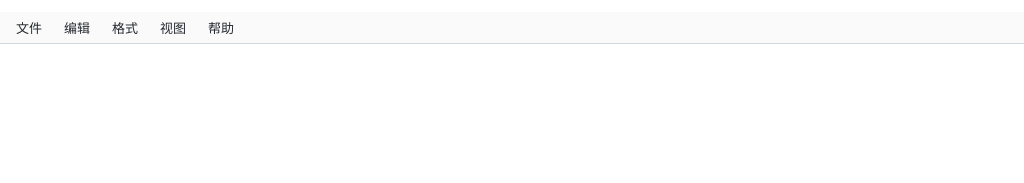
Test: MenuBar labels (regression: renames must land in BOTH languages) › Chinese: View menu shows 专注模式, never 聚焦模式
The image size is (1024, 183).
Step 1. Click the button "视图" → (173, 28), box [150,14,196,41]
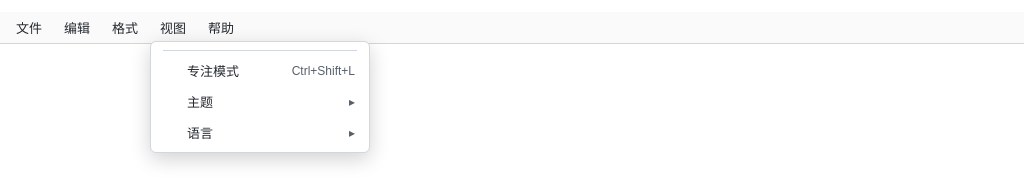
Expected: the text "专注模式" is shown, [187,64,239,79]
